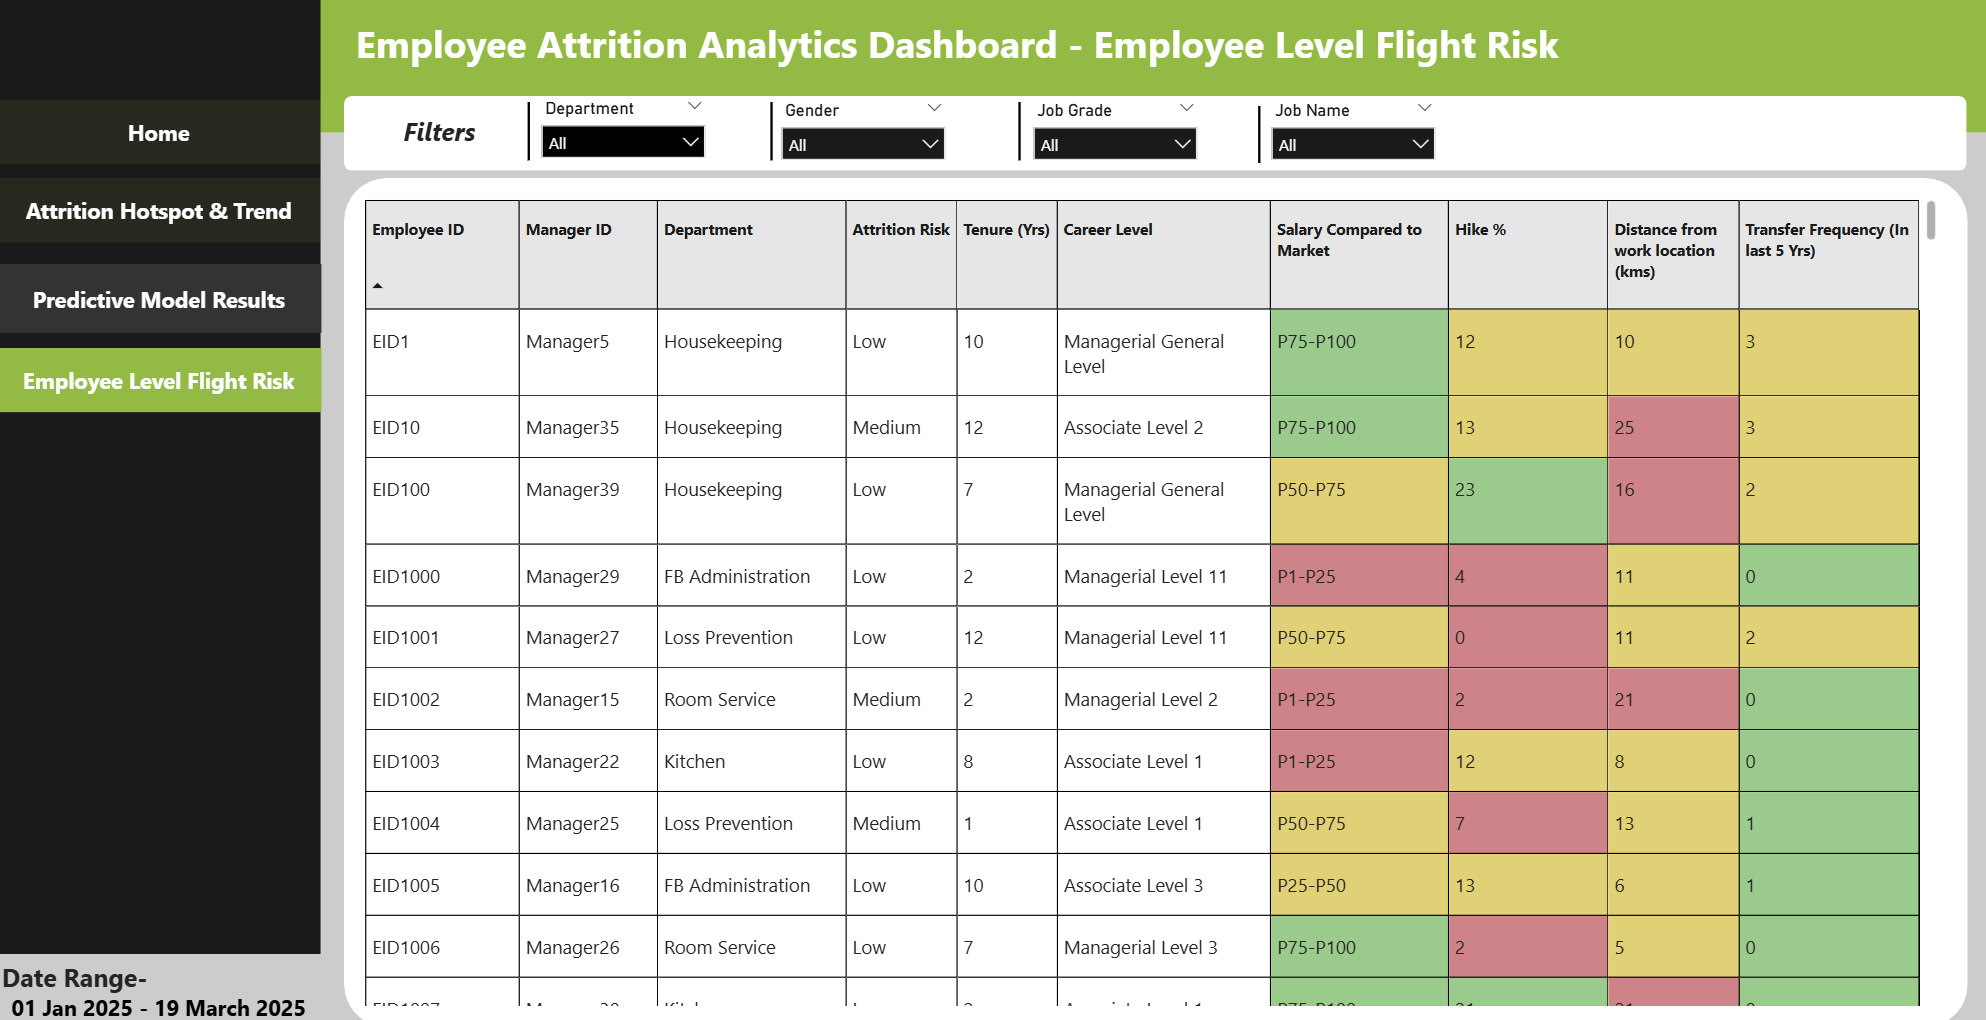

This screenshot's page, from the dashboard's own definition file:
{"tool":"powerbi","page":{"name":"Employee Level Flight Risk ","canvas":[1720,900],"ordinal":3},"visuals":[{"type":"shape","box":[0,0,1720,121.9],"z":0},{"type":"shape","box":[297.7,161.4,1390.9,727.3],"z":1000},{"type":"shape","box":[0,0,278,900],"z":2000},{"type":"textbox","box":[303.5,18.2,1395.7,57.1],"z":4000},{"type":"shape","box":[298,90,1390,64],"z":5000},{"type":"textbox","box":[328.3,100.4,101.9,48.9],"z":6000},{"type":"shape","box":[429.2,95.4,52.7,50],"z":7000},{"type":"slicer","fields":{"Values":["Termination Report.Job Name"]},"box":[1083.5,89.8,160.1,58.6],"z":8000},{"type":"slicer","fields":{"Values":["Termination Report.Sex"]},"box":[663,89.9,160,58],"z":9000},{"type":"slicer","fields":{"Values":["Termination Report.Department Name"]},"box":[456.8,87.9,160.1,58.6],"z":10000},{"type":"shape","box":[625.2,96.2,78,50],"z":11000},{"type":"shape","box":[837.2,96.2,78,50],"z":12000},{"type":"textbox","box":[287.2,603.2,236.4,36.9],"z":14000},{"type":"textbox","box":[0,826.1,278.8,73.2],"z":20000},{"type":"slicer","fields":{"Values":["Termination Report.Job Grade"]},"box":[878.5,89.8,160.1,58.6],"z":21000},{"type":"shape","box":[1038.6,99.6,87.9,48.8],"z":22000},{"type":"actionButton","box":[0,234,278.8,59],"z":23000},{"type":"actionButton","box":[0,93.6,278.8,54.9],"z":24000},{"type":"actionButton","box":[0,307.2,278.8,54.9],"z":25000},{"type":"textbox","box":[1586.3,241.5,113.3,50.2],"z":26000},{"type":"tableEx","fields":{"Values":["Flight Risk Table.Employee ID","Flight Risk Table.Manager ID","Flight Risk Table.Department","Flight Risk Table.Attrition Risk","Flight Risk Table.Tenure (Yrs)","Flight Risk Table.Career Level","Flight Risk Table.Salary Compared to Market","Flight Risk Table.Hike %","Flight Risk Table.Distance from work location (kms)","Flight Risk Table.Transfer Frequency (In last 5 Yrs)"]},"box":[309.3,175,1357.2,699.9],"z":27000},{"type":"actionButton","box":[0,160.7,278.8,54.9],"z":28000}]}

Visuals, with their boxes on the page's 1720x900 design canvas (x1, y1, x2, y2). These are canvas units, not pixel positions in the 1986x1020 screenshot, which may show the page scaled, cropped or inside an application window:
shape: <box>0,0,1720,122</box>
shape: <box>298,161,1689,889</box>
shape: <box>0,0,278,900</box>
textbox: <box>304,18,1699,75</box>
shape: <box>298,90,1688,154</box>
textbox: <box>328,100,430,149</box>
shape: <box>429,95,482,145</box>
slicer - Termination Report.Job Name: <box>1084,90,1244,148</box>
slicer - Termination Report.Sex: <box>663,90,823,148</box>
slicer - Termination Report.Department Name: <box>457,88,617,146</box>
shape: <box>625,96,703,146</box>
shape: <box>837,96,915,146</box>
textbox: <box>287,603,524,640</box>
textbox: <box>0,826,279,899</box>
slicer - Termination Report.Job Grade: <box>878,90,1039,148</box>
shape: <box>1039,100,1126,148</box>
actionButton: <box>0,234,279,293</box>
actionButton: <box>0,94,279,148</box>
actionButton: <box>0,307,279,362</box>
textbox: <box>1586,242,1700,292</box>
tableEx - Flight Risk Table.Employee ID x Flight Risk Table.Manager ID: <box>309,175,1666,875</box>
actionButton: <box>0,161,279,216</box>
